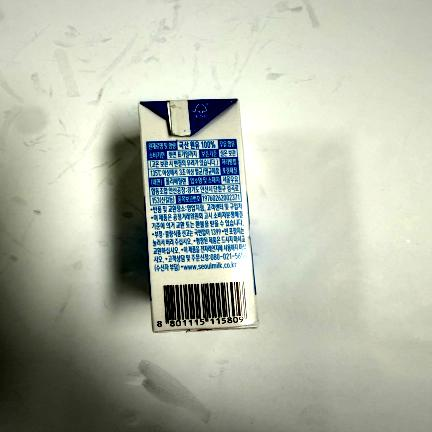milk_blue: (140, 99, 260, 332)
